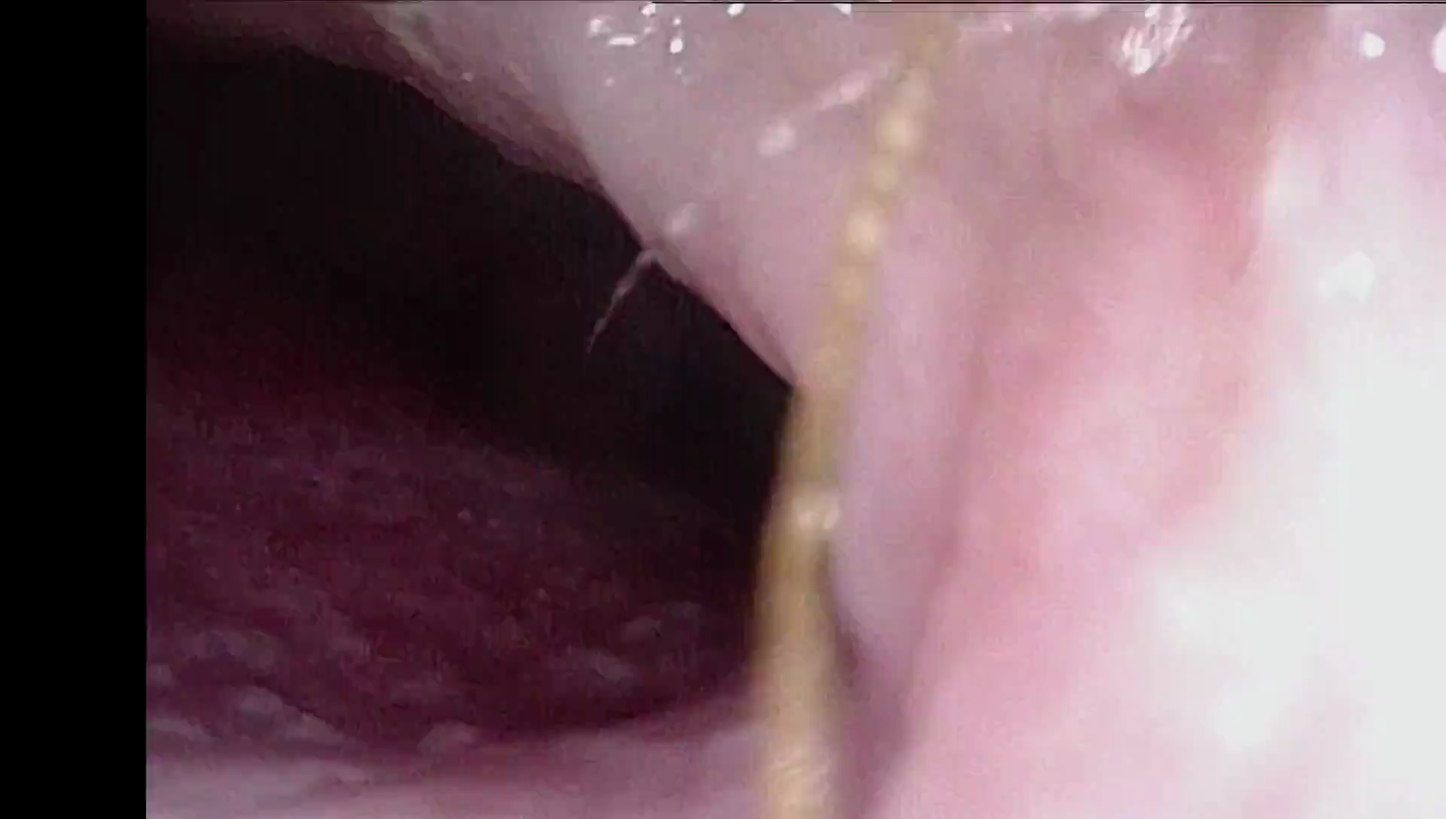close_wall: (999, 102, 1446, 819)
next: (367, 162, 800, 519)
